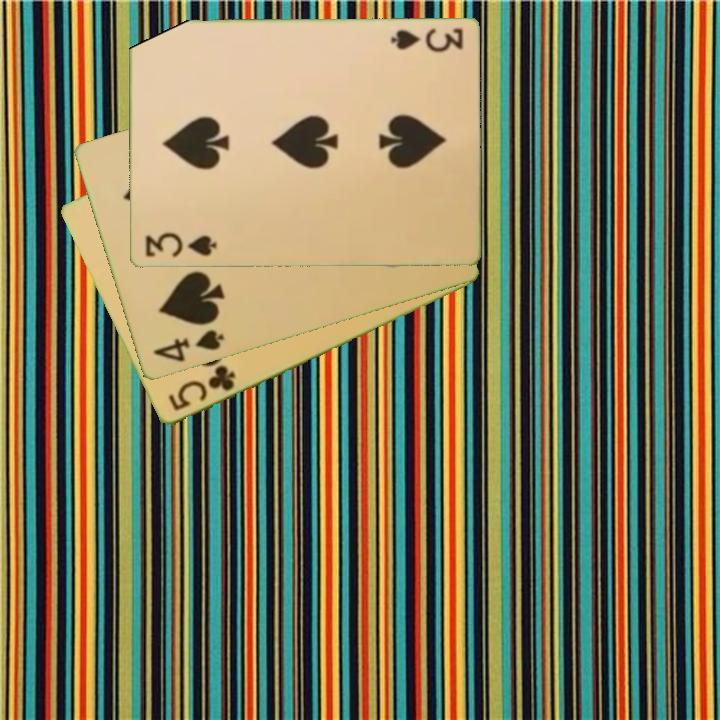3s: (141, 229, 219, 260), (387, 25, 465, 56)
4s: (149, 326, 227, 366)
5c: (164, 362, 239, 415)
